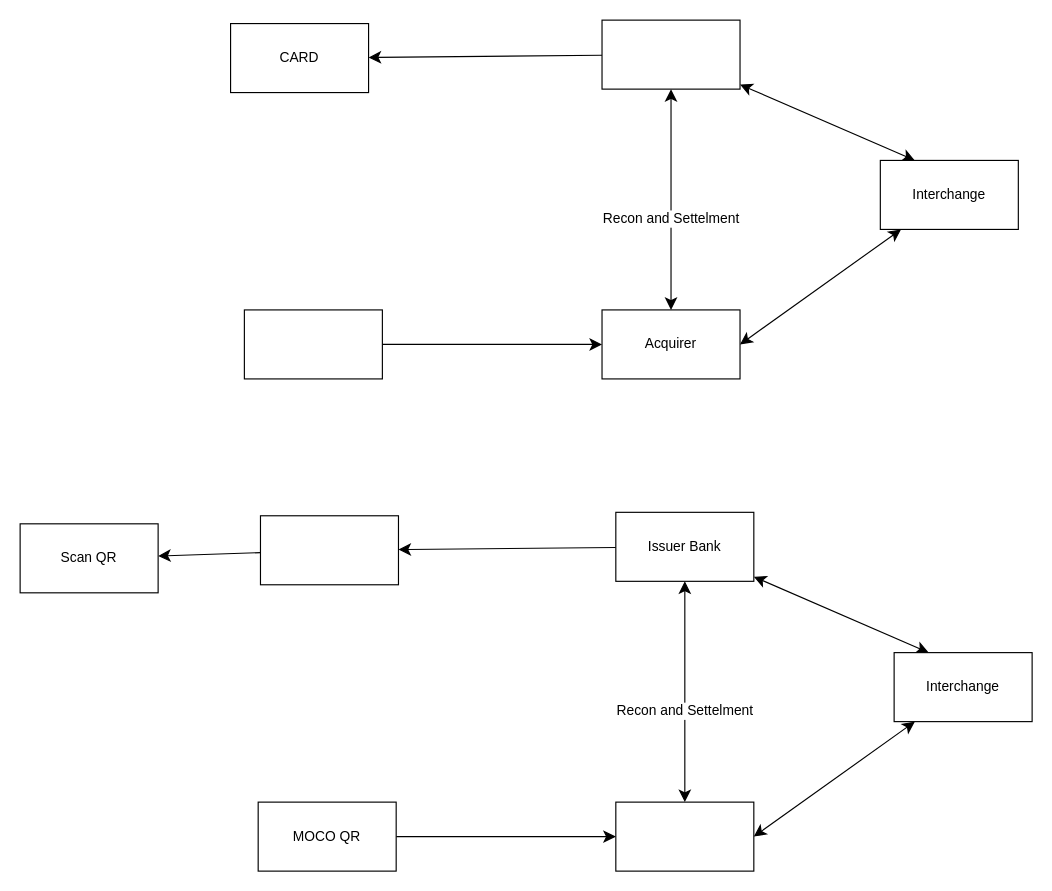
Image size: 1052x891. Some labels were removed from this diagram. The shapes that lost their labels are listed below. From the top down, each one's box as (x1, y1, x2, y2) in pixels, then its label:
(601, 19, 740, 89): Issuer
(243, 309, 382, 379): POS
(259, 515, 398, 585): MOCO APP
(615, 801, 754, 871): Acquirer Bank
